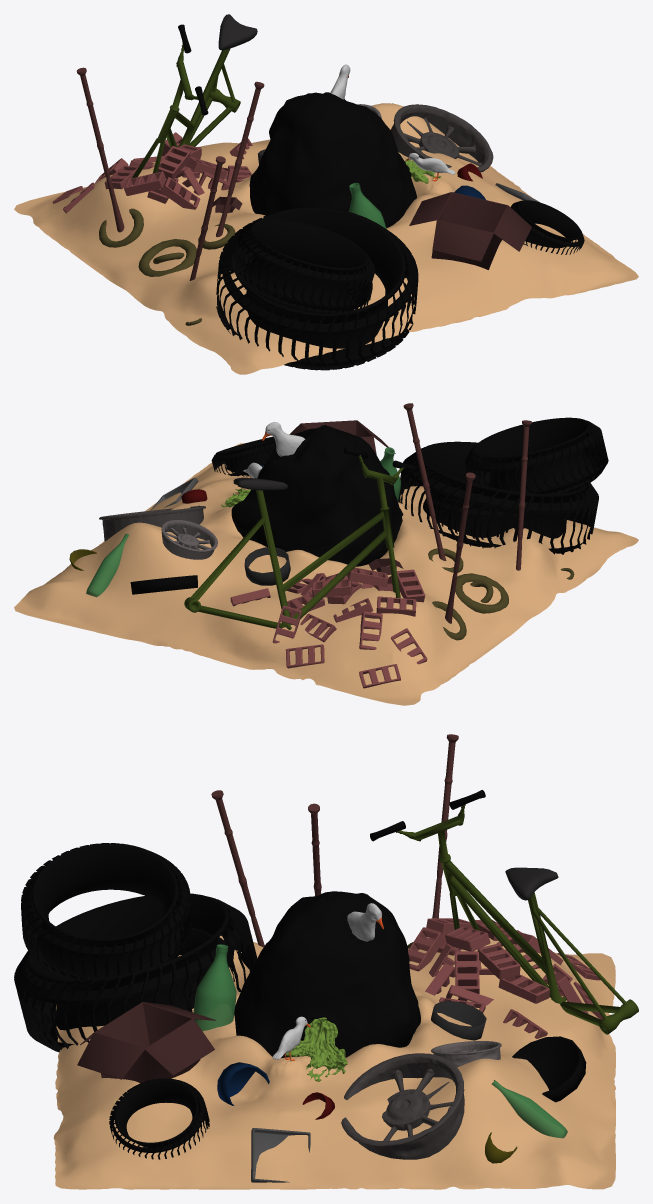
The model's file is mcd-beach-garbage.glb.
The picture shows the model from 3 angles, top to bottom: view 1: azimuth 30°, elevation 25°; view 2: azimuth 150°, elevation 25°; view 3: azimuth 270°, elevation 25°; orthographic projection. The views are drawn at different scales.
Visible parts, largest first — view 1: Object_11, Object_16, Object_3, Object_17, Object_22, Object_2, Object_19, Object_18, Object_15, Object_23, Object_24, Object_20 (+2 smaller); view 2: Object_11, Object_16, Object_3, Object_15, Object_19, Object_17, Object_18, Object_23, Object_20, Object_24, Object_5, Object_2 (+6 smaller); view 3: Object_11, Object_16, Object_3, Object_22, Object_15, Object_2, Object_17, Object_19, Object_18, Object_21, Object_23, Object_6 (+8 smaller).
Boxes of the visible parts, x1,y1,x2,y2 form: Object_11: (14,103,638,374); Object_16: (217,200,581,369); Object_3: (249,92,416,227); Object_17: (216,200,584,370); Object_22: (212,192,531,269); Object_2: (391,104,493,172); Object_19: (52,132,252,213); Object_18: (231,221,375,313); Object_15: (132,43,240,178); Object_23: (76,67,264,280); Object_24: (99,208,235,325); Object_20: (104,144,200,203); Object_11: (14,443,638,705); Object_16: (214,417,605,551); Object_3: (231,425,403,566); Object_15: (184,455,404,629); Object_19: (230,569,427,688); Object_17: (211,441,598,554); Object_18: (425,420,608,539); Object_23: (403,403,531,623); Object_20: (312,567,416,622); Object_24: (428,548,574,640); Object_5: (161,519,217,559); Object_2: (99,505,205,541); Object_11: (53,935,615,1189); Object_16: (21,843,253,1159); Object_3: (234,891,420,1057); Object_22: (77,1002,215,1083); Object_15: (396,804,638,1034); Object_2: (341,1053,464,1159); Object_17: (14,897,257,1158); Object_19: (408,918,603,1038); Object_18: (21,843,235,999); Object_21: (193,944,567,1138); Object_23: (211,734,458,947); Object_6: (512,1036,586,1102).
Size of the model in its own units: 9.47 by 4.8 by 10.54.
